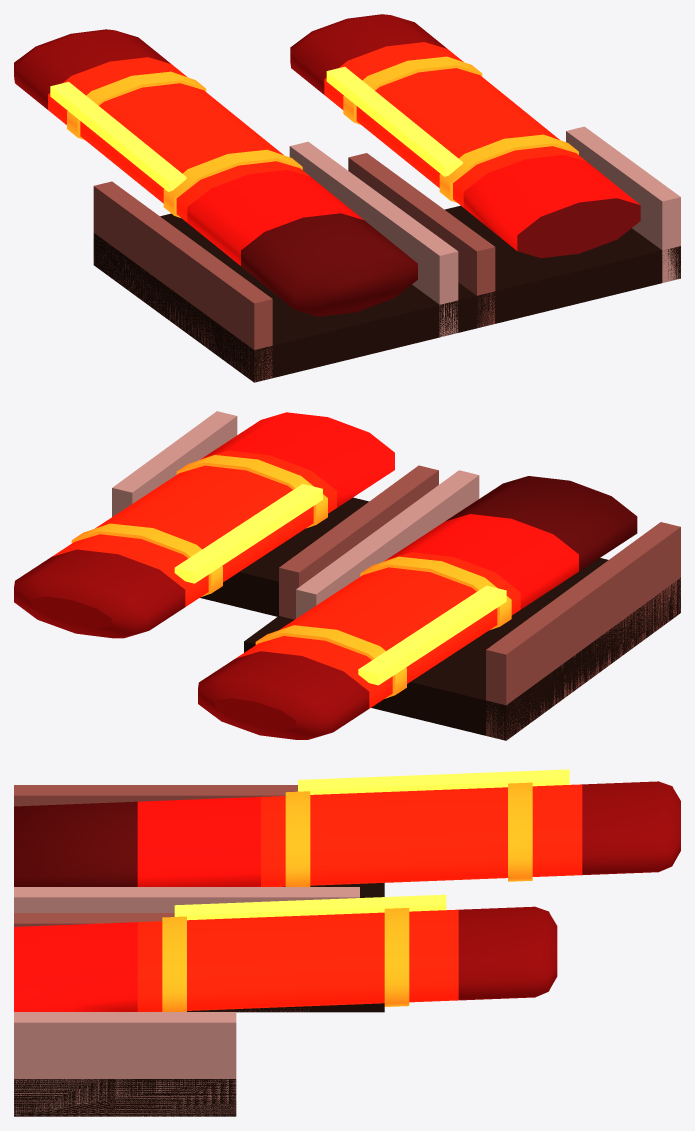
File: newshf-161.glb
3 renders of one model, top to bottom at view 1: azimuth 30°, elevation 25°; view 2: azimuth 150°, elevation 25°; view 3: azimuth 270°, elevation 25°, orthographic. The views are drawn at different scales.
Visible parts, largest first — view 1: newshf-161; view 2: newshf-161; view 3: newshf-161.
Boxes of the visible parts, bbox=[...] form: newshf-161: bbox=[14, 14, 680, 382]; newshf-161: bbox=[14, 411, 680, 740]; newshf-161: bbox=[14, 769, 680, 1116].
Size of the model in its own units: 1.92 by 0.5086 by 2.25.
